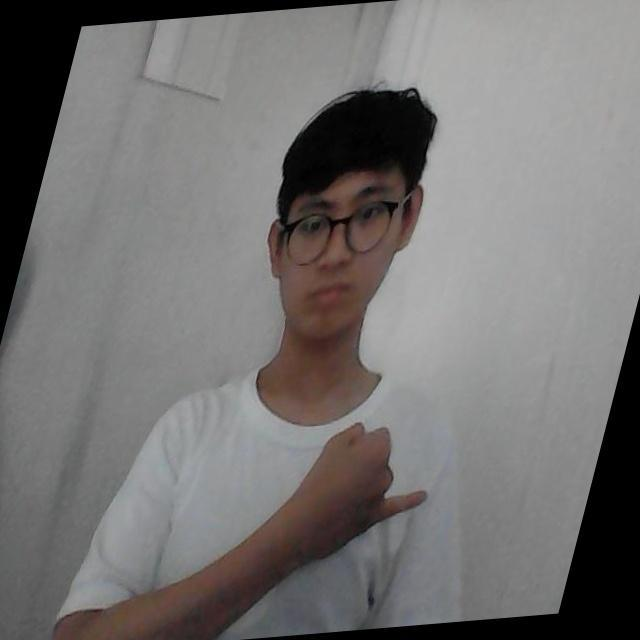J: (276, 414, 499, 573)
